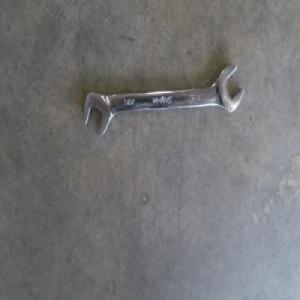Wrench: (86, 63, 239, 134)
